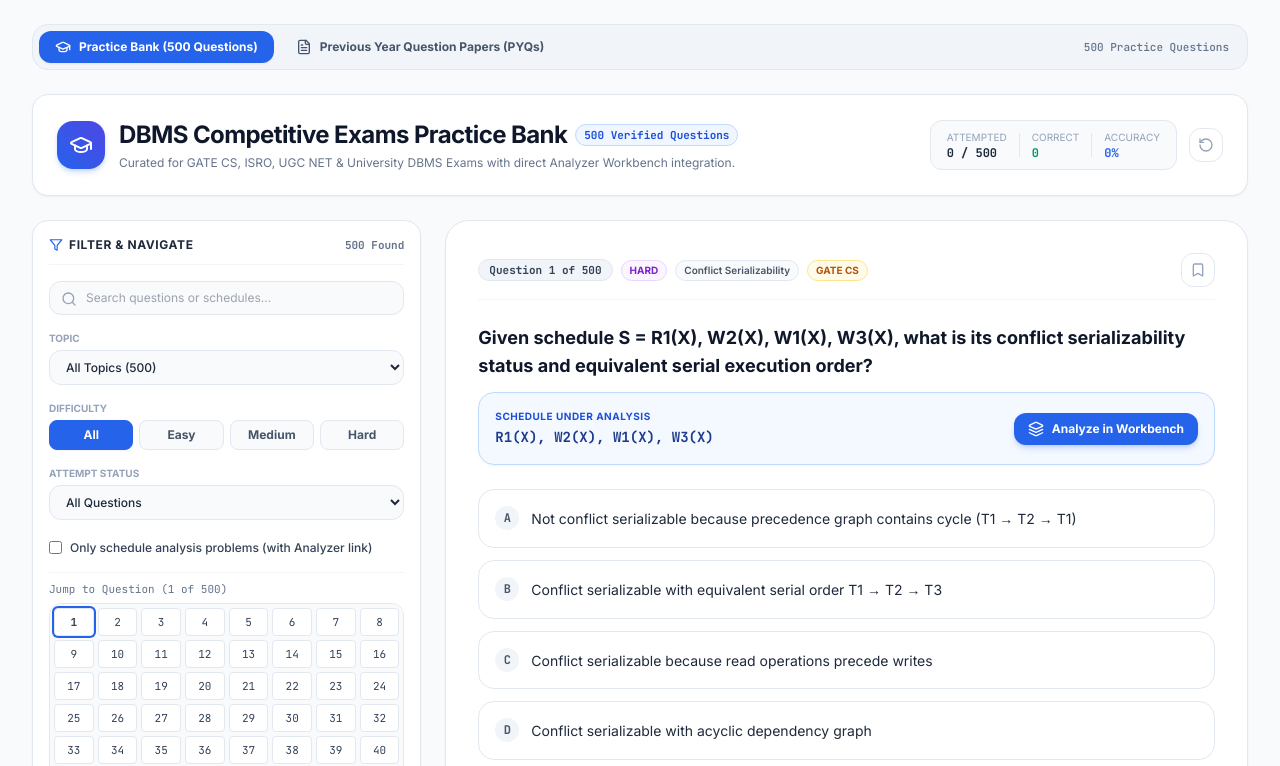
CompetitiveExamsPage › renders Previous Year Question Papers (PYQs) subsection when tab is selected
The width and height of the screenshot is (1280, 766).
Click the button "Previous Year Question Papers (PYQs)".
click(420, 47)  # box [280,31,560,63]
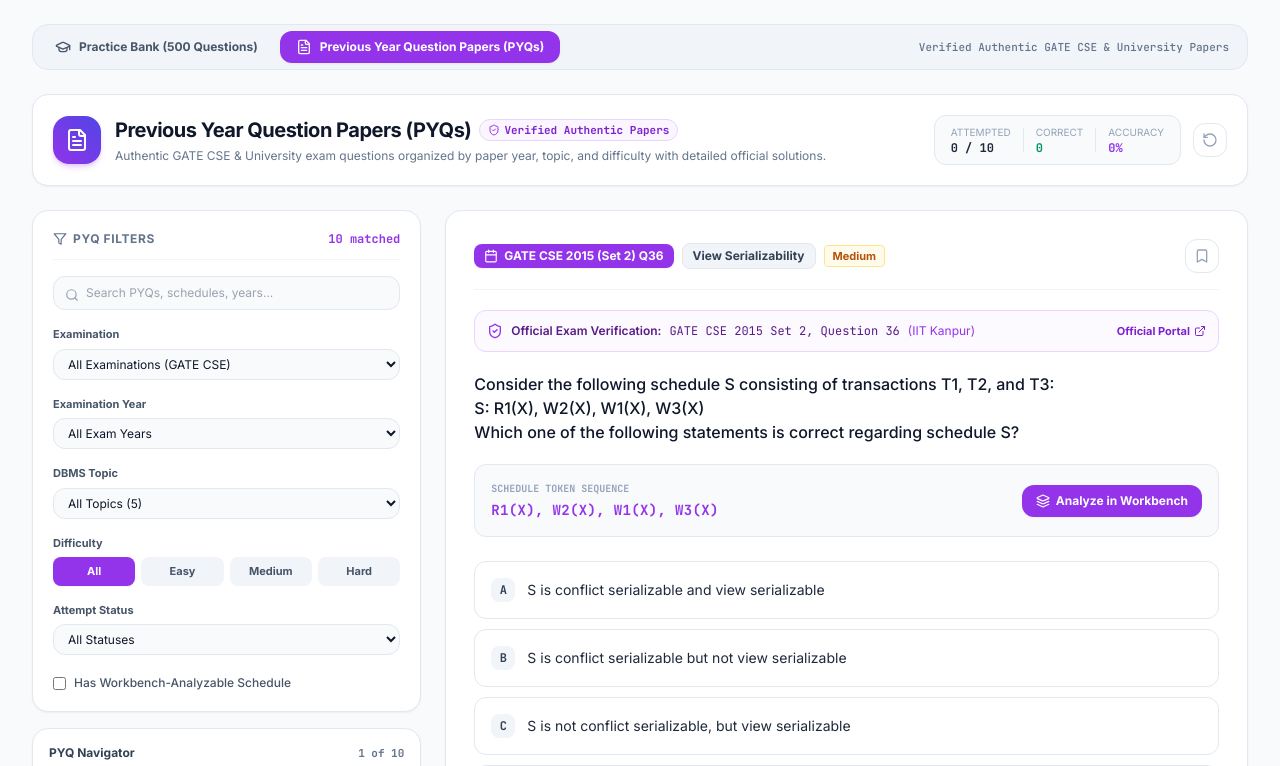
Now the text "Verified Authentic Papers" is shown, box [479,119,678,141]
Now the text "GATE CSE 2015 (Set 2) Q36" is shown, box [474,244,674,268]
